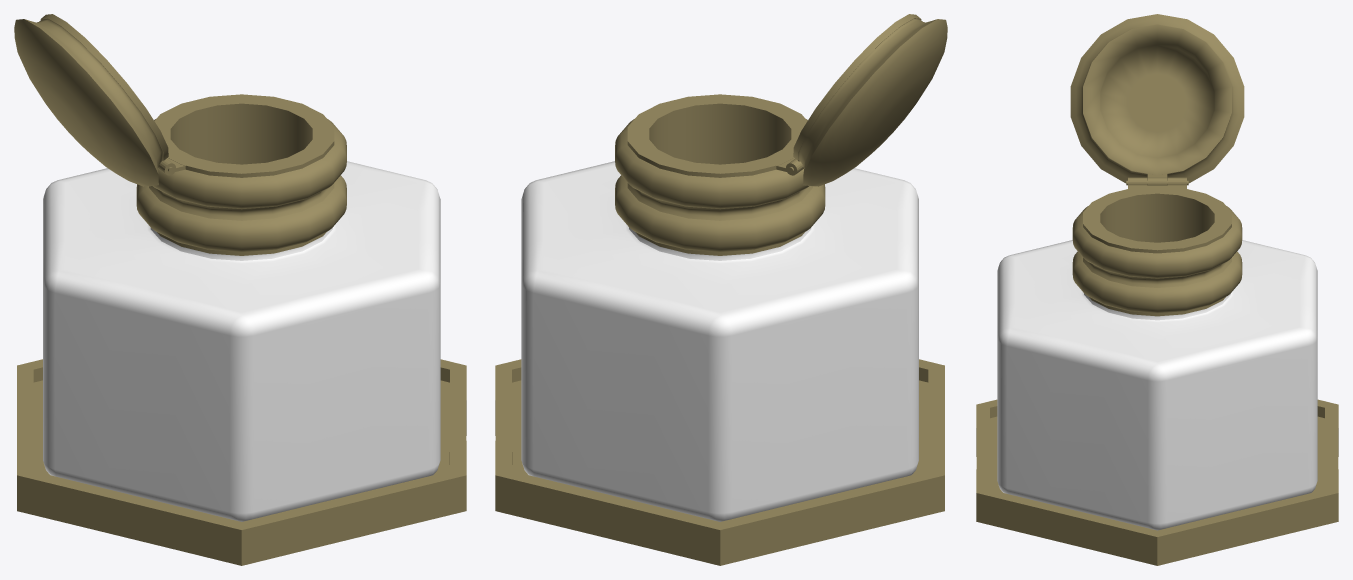
Rendered from Inkwell.fbx.
3 renders of one model, left to right at view 1: azimuth 30°, elevation 25°; view 2: azimuth 150°, elevation 25°; view 3: azimuth 270°, elevation 25°, orthographic. The views are drawn at different scales.
Visible parts, largest first — view 1: inkwell_body_beveledge, inkwell_collar, inkwell_standbase, inkwell_lid; view 2: inkwell_body_beveledge, inkwell_collar, inkwell_standbase, inkwell_lid; view 3: inkwell_body_beveledge, inkwell_lid, inkwell_collar, inkwell_standbase.
Part boxes in pixels (bbox=[...]): inkwell_body_beveledge: bbox=[43, 161, 440, 521]; inkwell_collar: bbox=[136, 94, 346, 255]; inkwell_standbase: bbox=[17, 359, 466, 565]; inkwell_lid: bbox=[14, 14, 168, 186]; inkwell_body_beveledge: bbox=[521, 161, 918, 521]; inkwell_collar: bbox=[615, 94, 825, 255]; inkwell_standbase: bbox=[495, 359, 944, 565]; inkwell_lid: bbox=[793, 14, 947, 186]; inkwell_body_beveledge: bbox=[997, 240, 1317, 530]; inkwell_lid: bbox=[1070, 14, 1244, 185]; inkwell_collar: bbox=[1072, 177, 1242, 316]; inkwell_standbase: bbox=[976, 399, 1338, 565].
Bounding box in the file's own units: 9.07 × 9.2 × 7.86.
